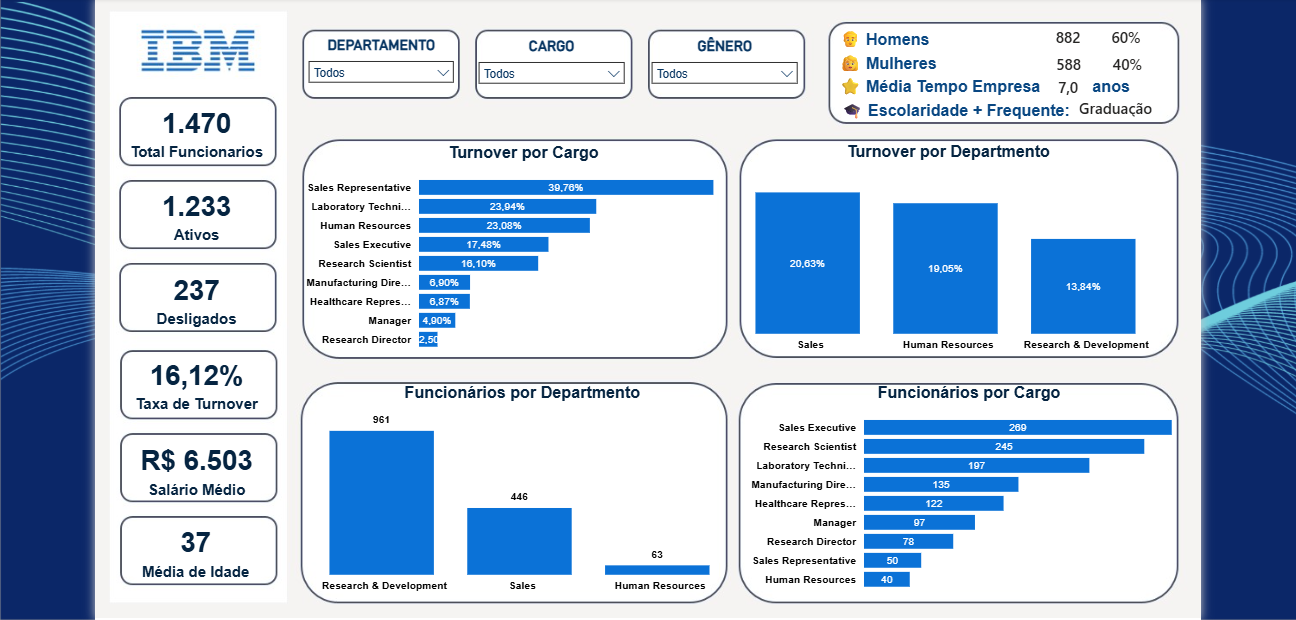

What the dashboard file says about the page in this screenshot:
{"tool":"powerbi","page":{"name":"Visão Executiva","canvas":[1280,720],"ordinal":0},"visuals":[{"type":"card","title":"ATIVOS","fields":{"Values":["Medidas (2).Total Funcionarios"]},"box":[22.2,112.2,191.1,83.3],"z":0},{"type":"card","title":"ATIVOS","fields":{"Values":["Medidas (2).Ativos"]},"box":[22.2,208.9,191.1,83.3],"z":1000},{"type":"card","title":"ATIVOS","fields":{"Values":["Medidas (2).Desligados"]},"box":[22.2,305.6,191.1,83.3],"z":2000},{"type":"card","title":"ATIVOS","fields":{"Values":["Medidas (2).Taxa de Turnover"]},"box":[22.2,404.4,191.1,83.3],"z":3000},{"type":"card","title":"ATIVOS","fields":{"Values":["Medidas (2).Salário Médio"]},"box":[22.5,503.8,191.2,82.5],"z":4000},{"type":"card","title":"ATIVOS","fields":{"Values":["Medidas (2).Média de Idade"]},"box":[21.2,598.8,191.2,82.5],"z":5000},{"type":"slicer","title":"DEPARTAMENTO","fields":{"Values":["WA_Fn-UseC_-HR-Employee-Attrition.Department"]},"box":[237.3,44.5,188.2,67.3],"z":6000},{"type":"slicer","title":"CARGO","fields":{"Values":["WA_Fn-UseC_-HR-Employee-Attrition.JobRole"]},"box":[434.4,45.6,188.9,66.7],"z":7000},{"type":"slicer","title":"GÊNERO","fields":{"Values":["WA_Fn-UseC_-HR-Employee-Attrition.Gender"]},"box":[634.6,45.4,189.2,66.9],"z":8000},{"type":"clusteredBarChart","title":"Turnover por Cargo","fields":{"Category":["WA_Fn-UseC_-HR-Employee-Attrition.JobRole"],"Y":["Medidas (2).Taxa de Turnover"]},"box":[227.5,167.5,536.2,250],"z":9000},{"type":"clusteredColumnChart","title":"Turnover por Departmento","fields":{"Category":["WA_Fn-UseC_-HR-Employee-Attrition.Department"],"Y":["Medidas (2).Taxa de Turnover"]},"box":[695.7,167.1,584.3,250],"z":10000},{"type":"clusteredColumnChart","title":"Funcionários por Departmento","fields":{"Category":["WA_Fn-UseC_-HR-Employee-Attrition.Department"],"Y":["Medidas (2).Total Funcionarios"]},"box":[202.9,445.7,584.3,250],"z":11000},{"type":"clusteredBarChart","title":"Funcionários por Cargo","fields":{"Category":["WA_Fn-UseC_-HR-Employee-Attrition.JobRole"],"Y":["Medidas (2).Ativos"]},"box":[742.9,445.7,537.1,250],"z":12000},{"type":"cardVisual","title":"Homens","fields":{"Data":["Medidas (2).Total Homens","Medidas (2).% Homens"]},"box":[1079.8,14,160.6,59.9],"z":13000},{"type":"textbox","title":"👨 Homens","box":[856.7,34.4,121.1,28],"z":14000},{"type":"textbox","title":"👩 Mulheres","box":[856.7,62.5,131.3,25.5],"z":15000},{"type":"cardVisual","title":"Homens","fields":{"Data":["Medidas (2).Total Mulheres","Medidas (2).% Mulheres"]},"box":[1079.8,45.9,163.2,57.4],"z":16000},{"type":"textbox","title":"⭐ Média Tempo Empresa","box":[856.7,89.2,252.4,28],"z":17000},{"type":"cardVisual","title":"Homens","fields":{"Data":["Medidas (2).Tempo Médio Empresa"]},"box":[1079.8,72.7,93.1,57.4],"z":18000},{"type":"textbox","title":"anos","box":[1150,91.8,63.7,28],"z":19000},{"type":"textbox","title":"🎓 Escolaridade + Frequente:","box":[859.3,117.3,283,24.2],"z":20000},{"type":"cardVisual","title":"Homens","fields":{"Data":["Medidas (2).Escolaridade Principal"]},"box":[1097.5,101.7,182.5,56.7],"z":21000}]}

Visuals, with their boxes in screenshot pixels (x1, y1, x2, y2):
"ATIVOS" card: bbox(90, 85, 259, 159)
"ATIVOS" card: bbox(90, 171, 259, 244)
"ATIVOS" card: bbox(90, 256, 259, 329)
"ATIVOS" card: bbox(90, 343, 259, 417)
"ATIVOS" card: bbox(91, 431, 259, 504)
"ATIVOS" card: bbox(90, 515, 258, 587)
"DEPARTAMENTO" slicer: bbox(280, 26, 446, 85)
"CARGO" slicer: bbox(454, 27, 621, 86)
"GÊNERO" slicer: bbox(630, 27, 797, 86)
"Turnover por Cargo" clusteredBarChart: bbox(271, 134, 744, 355)
"Turnover por Departmento" clusteredColumnChart: bbox(684, 134, 1200, 354)
"Funcionários por Departmento" clusteredColumnChart: bbox(250, 380, 765, 600)
"Funcionários por Cargo" clusteredBarChart: bbox(726, 380, 1200, 600)
"Homens" cardVisual: bbox(1023, 0, 1165, 52)
"👨 Homens" textbox: bbox(826, 17, 933, 42)
"👩 Mulheres" textbox: bbox(826, 42, 942, 64)
"Homens" cardVisual: bbox(1023, 27, 1167, 78)
"⭐ Média Tempo Empresa" textbox: bbox(826, 65, 1049, 90)
"Homens" cardVisual: bbox(1023, 51, 1105, 101)
"anos" textbox: bbox(1085, 67, 1141, 92)
"🎓 Escolaridade + Frequente:" textbox: bbox(829, 90, 1078, 111)
"Homens" cardVisual: bbox(1039, 76, 1200, 126)
